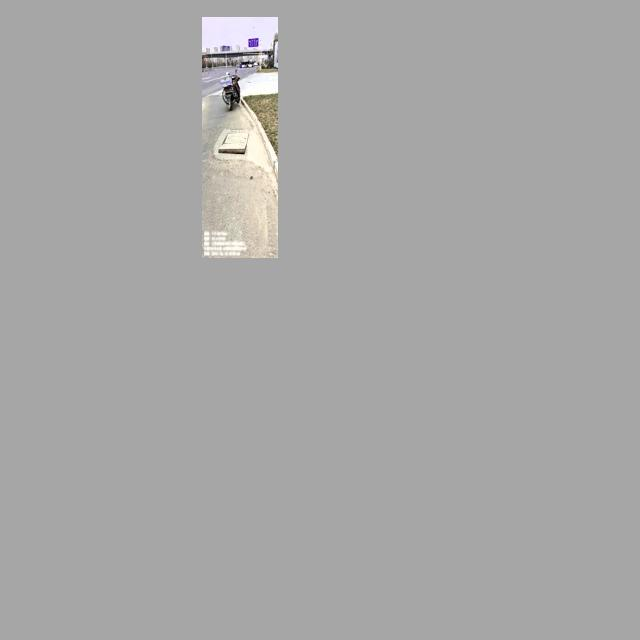uncovered: (218, 131, 249, 156)
